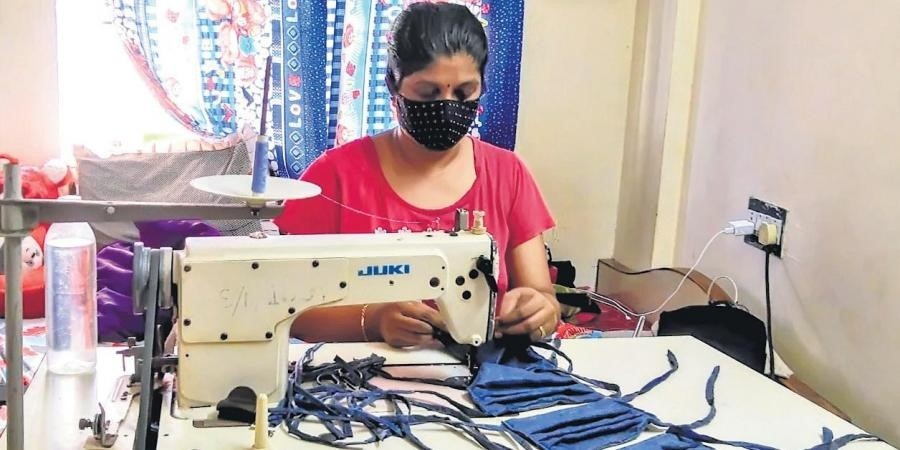face_with_mask: (385, 0, 492, 155)
